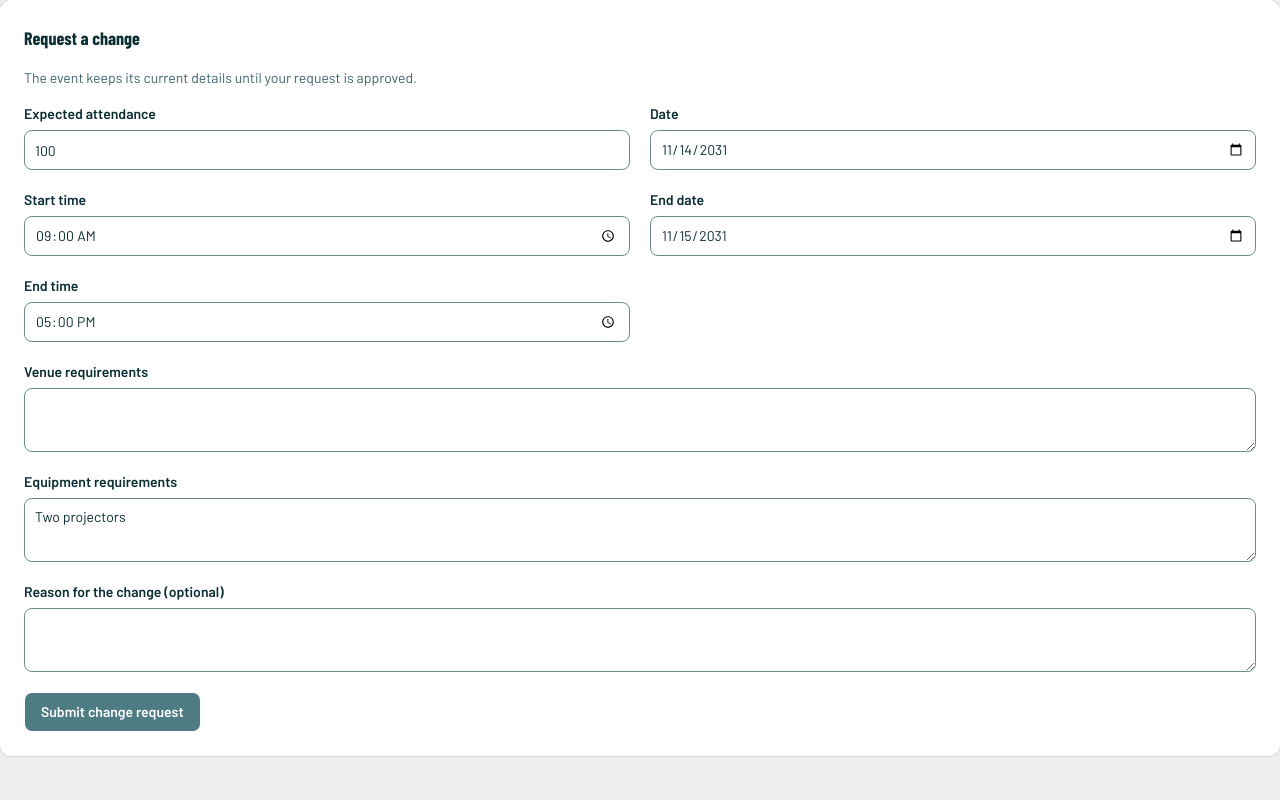
Test: SCRUM-66/AC10 the end date is visible and editable › refuses an end date before the date, naming the End date field
Type "2031-11-13" into the date field labelled "End date". click: (953, 236)
box: [650, 216, 1256, 256]
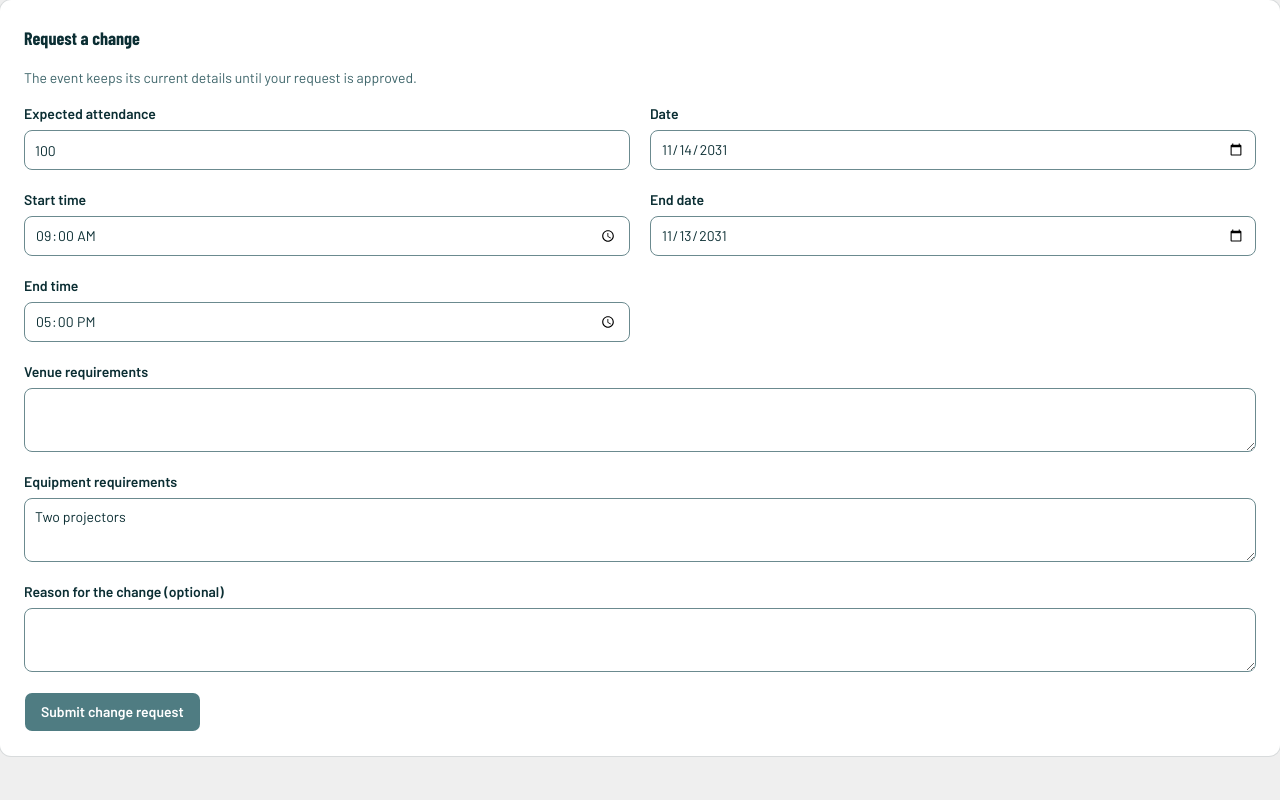
Click the button "Submit change request". click: (112, 712)
box: [24, 692, 201, 732]
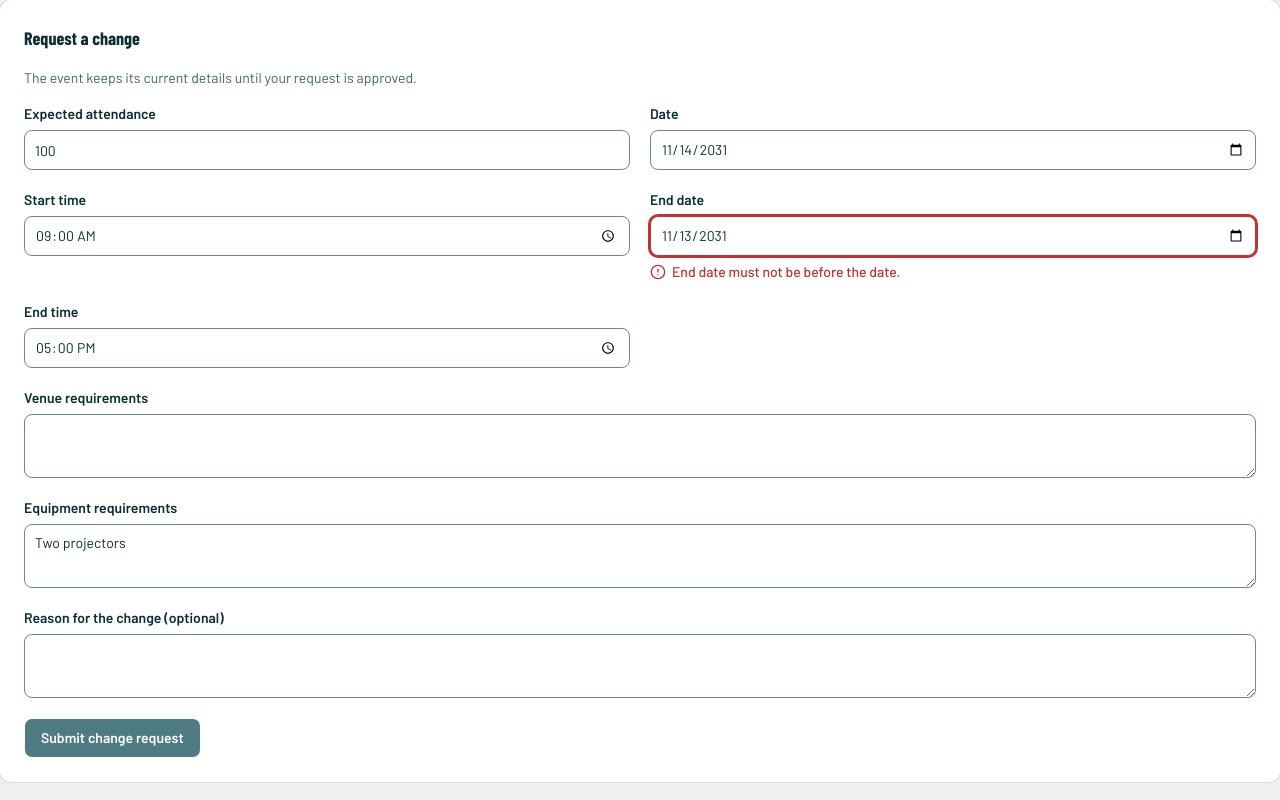
Now the text "End date must not be before the date." is shown, box [650, 263, 900, 280]
